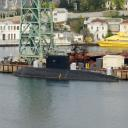submarine: (14, 56, 121, 83)
